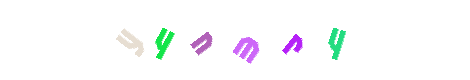4: (192, 0, 272, 80), (253, 0, 333, 80)
M: (209, 0, 289, 80)
N: (195, 0, 275, 80)
R: (214, 0, 294, 80)
Y: (118, 0, 198, 80)
